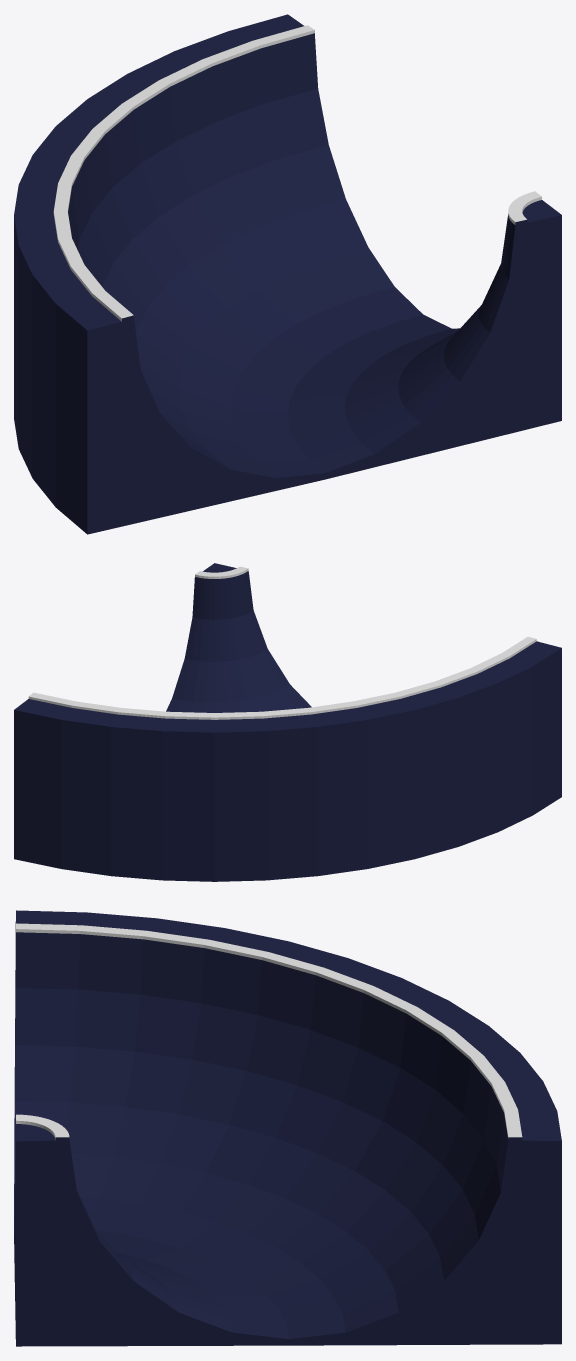
Rendered from HalfPipe Corner.fbx.
3 views of the same model, one above another, from view 1: azimuth 30°, elevation 25°; view 2: azimuth 150°, elevation 25°; view 3: azimuth 270°, elevation 25° (orthographic). The views are drawn at different scales.
Visible parts, largest first — view 1: New HalfPipe.001; view 2: New HalfPipe.001; view 3: New HalfPipe.001.
Boxes of the visible parts, x1,y1,x2,y2 form: New HalfPipe.001: (14, 14, 561, 534); New HalfPipe.001: (14, 563, 561, 881); New HalfPipe.001: (14, 910, 561, 1346).
Bounding box in the file's own units: 23.46 × 9.92 × 23.54.
